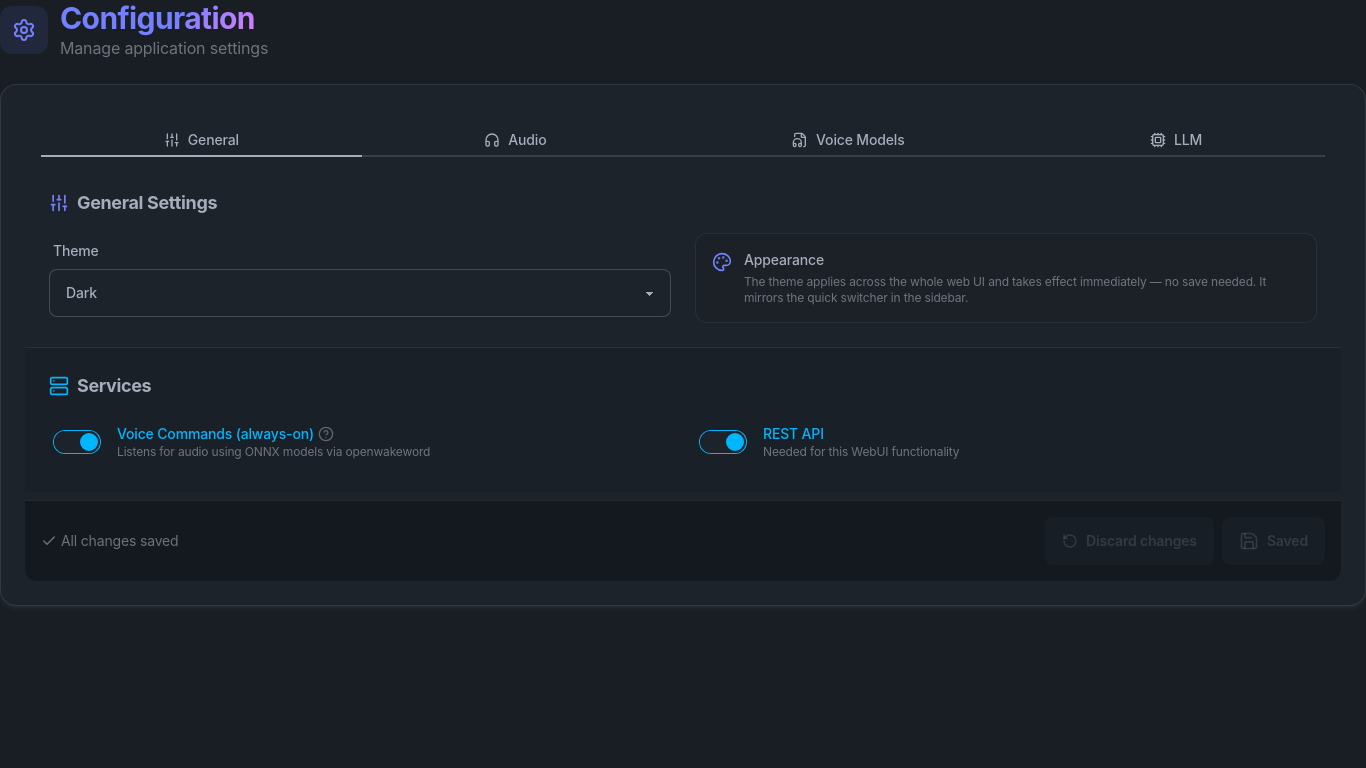
Scenario: ConfigurationPage dirty-state + save › a failed save (res not ok) surfaces the real error via a toast
Expected: the button with test id "save-button" is disabled, [1222, 517, 1325, 565]
Select "Light" in the dropdown labelled "Theme" at (360, 293), box [49, 269, 671, 317]
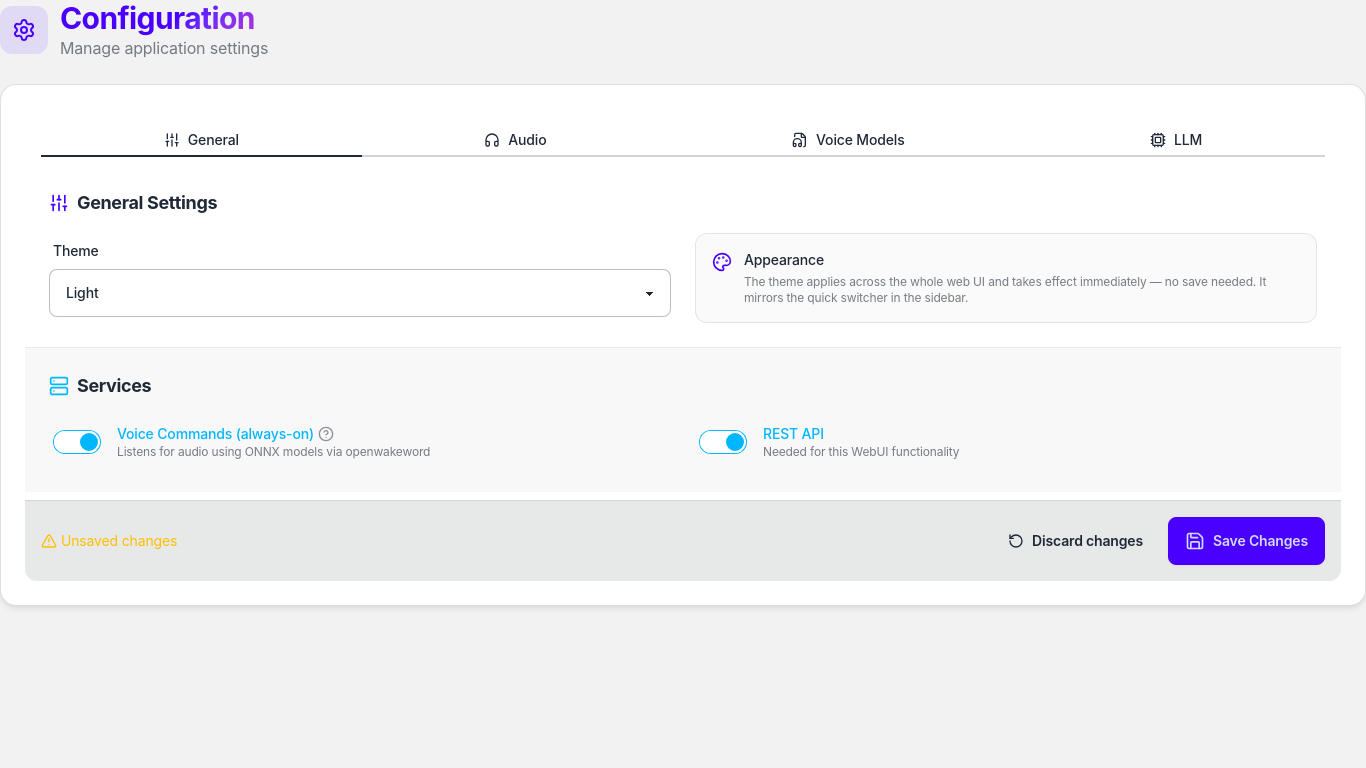
Click the button with test id "save-button" at (1246, 541), box [1168, 517, 1325, 565]
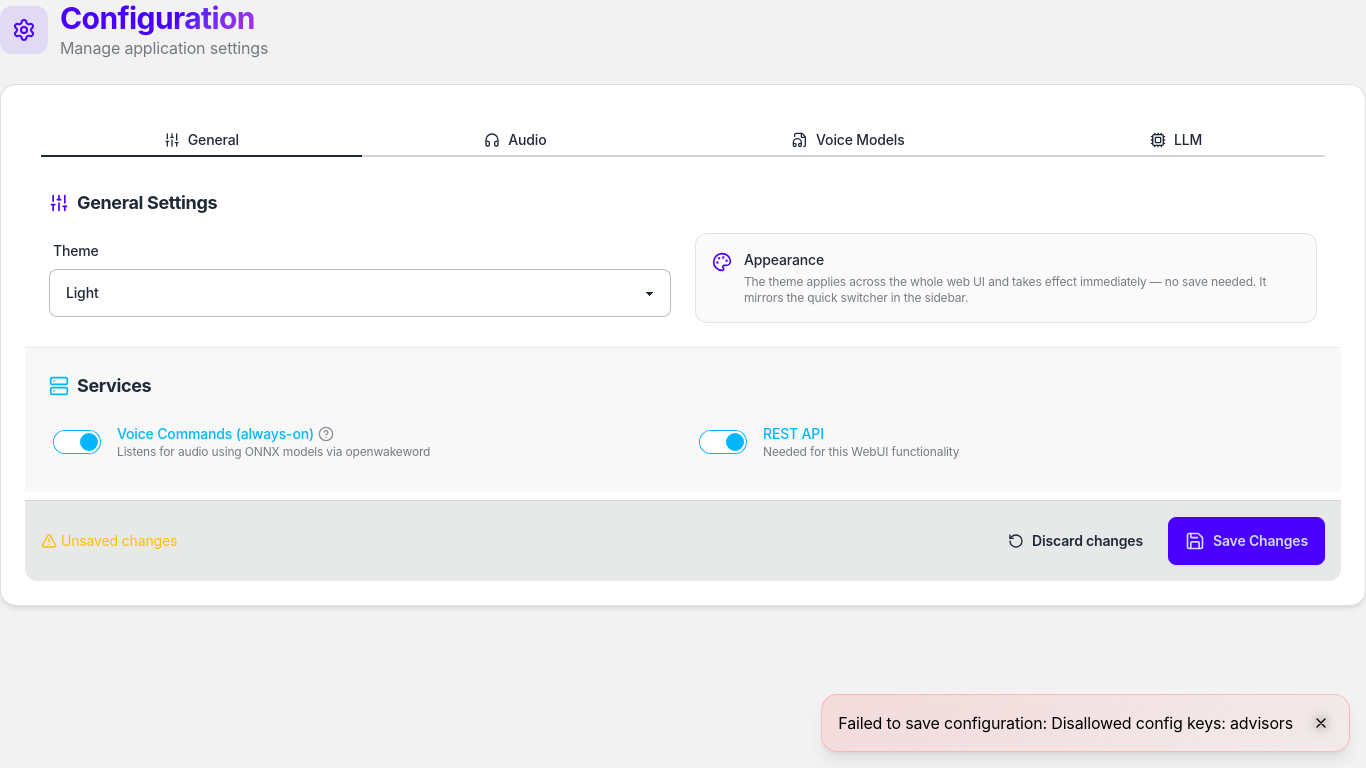
Result: the button with test id "save-button" is enabled at [1168, 517, 1325, 565]
Result: the text "Failed to save configuration: Disallowed config keys: advisors" is shown at [838, 711, 1293, 735]
